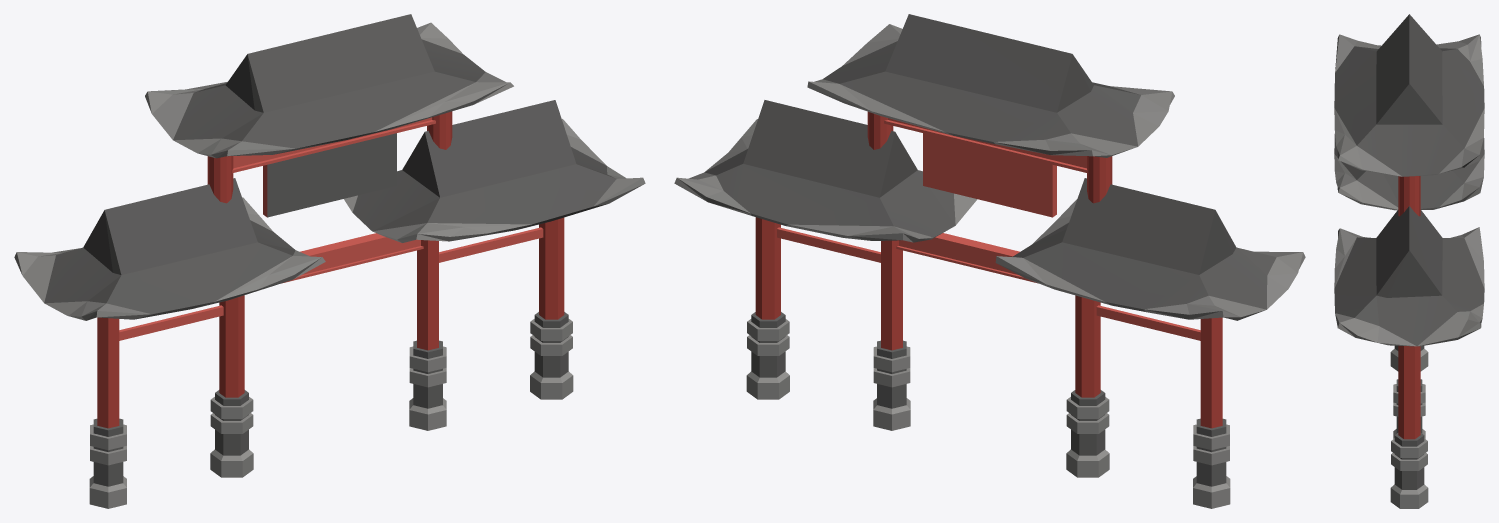
File: torii_3.fbx
The picture shows the model from 3 angles, left to right: view 1: azimuth 30°, elevation 25°; view 2: azimuth 150°, elevation 25°; view 3: azimuth 270°, elevation 25°; orthographic projection. The views are drawn at different scales.
Visible parts, largest first — view 1: torii_3; view 2: torii_3; view 3: torii_3.
Part boxes in pixels (x1,y1,x2,y2): torii_3: [14, 14, 645, 508]; torii_3: [674, 14, 1305, 508]; torii_3: [1334, 14, 1484, 508].
Bounding box in the file's own units: 939 × 657 × 249.
